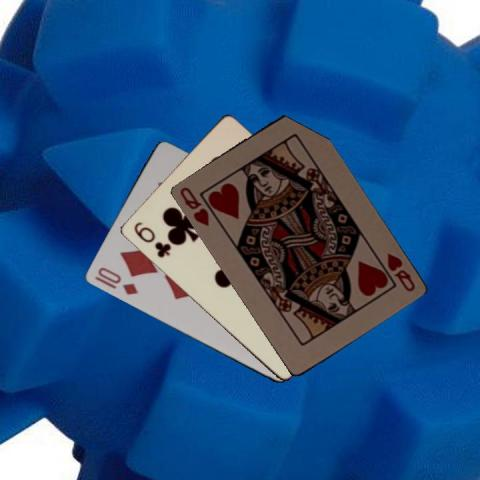10d: (94, 264, 139, 297)
6c: (130, 219, 172, 259)
Qh: (176, 183, 210, 228), (383, 250, 417, 293)
